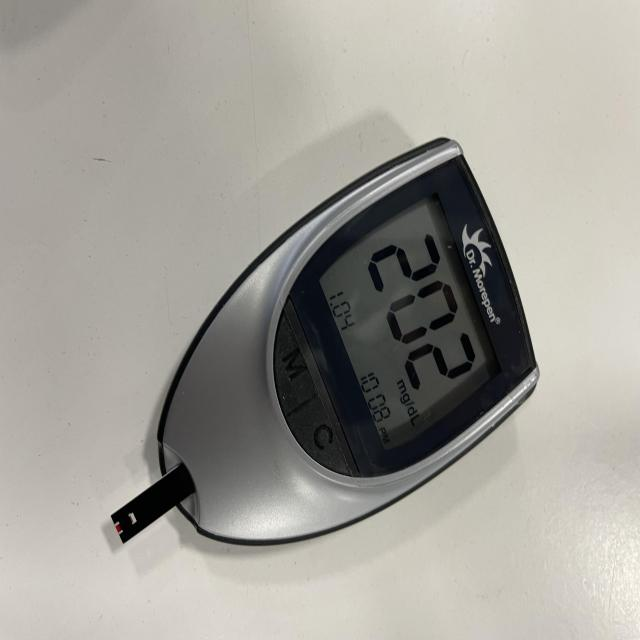gluco: (114, 138, 540, 548)
